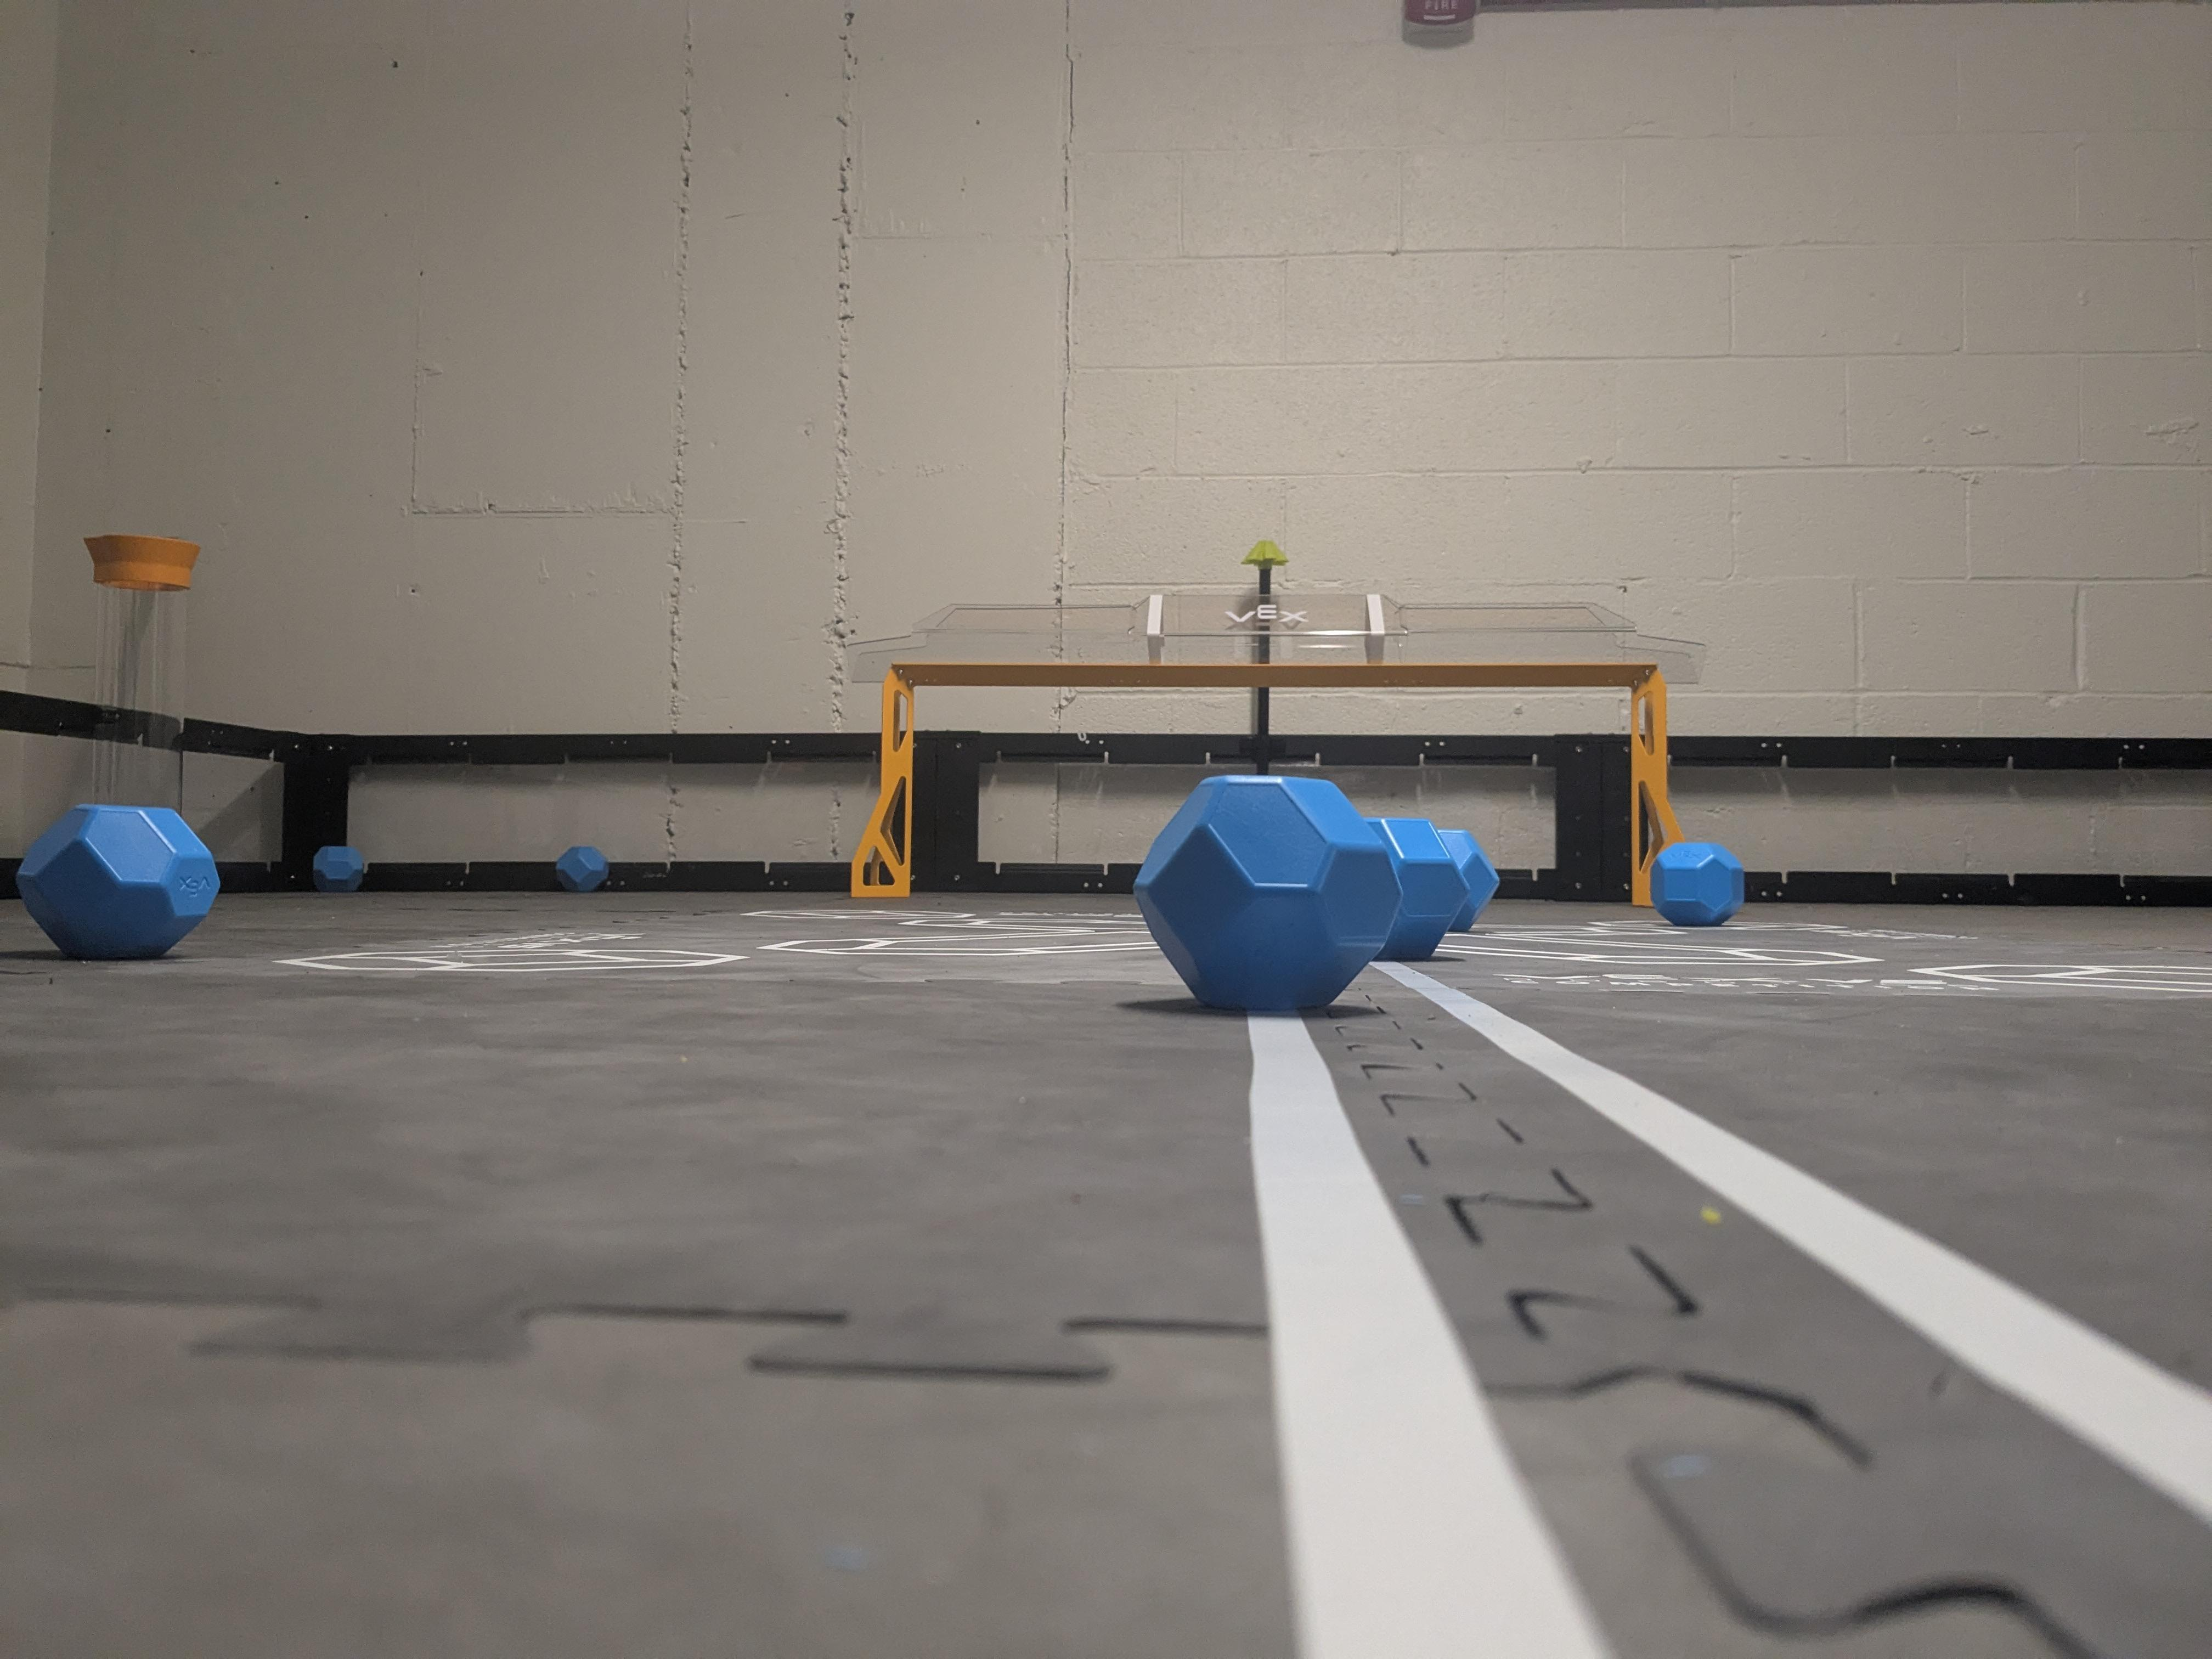Vex-Pieces-BLUE: (1137, 774, 1489, 1012), (24, 803, 216, 957), (1651, 845, 1749, 924), (314, 847, 364, 892), (556, 847, 608, 890)
